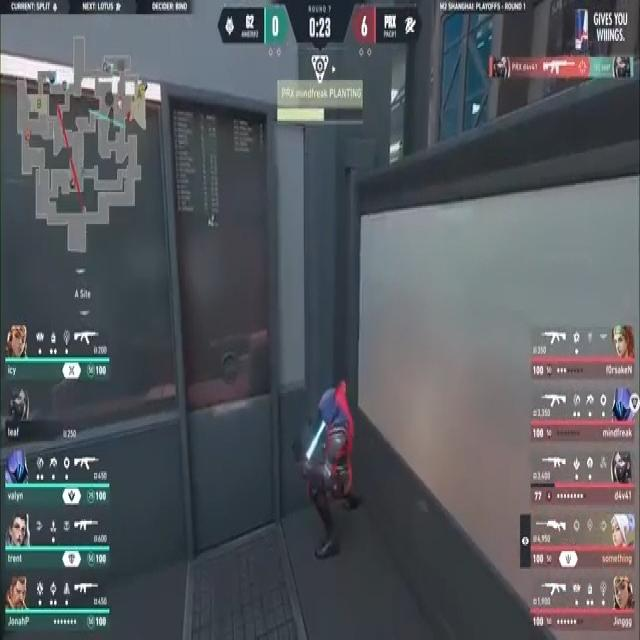enemy: (288, 378, 364, 573)
